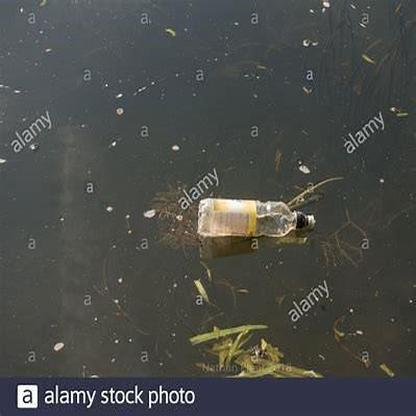plastic bottle: (198, 197, 313, 237)
